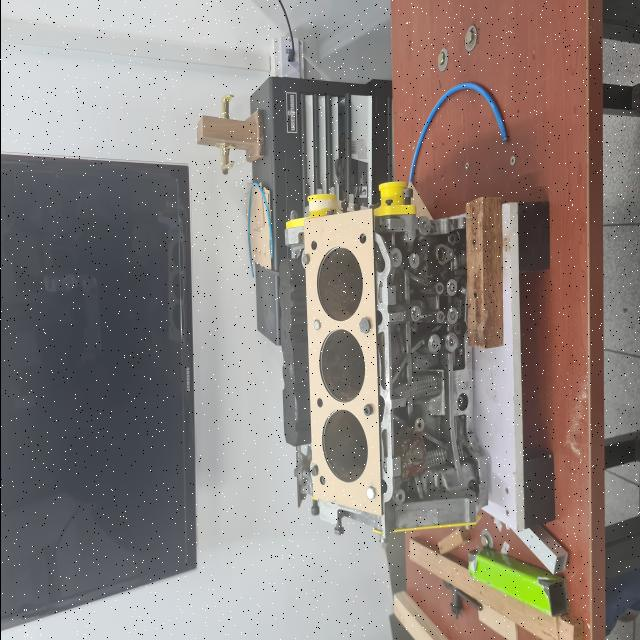vista1: (303, 208, 380, 517)
